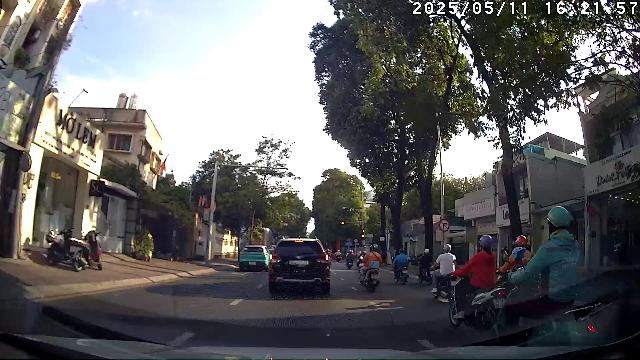123b-cam-re-phai: (438, 218, 449, 232)
